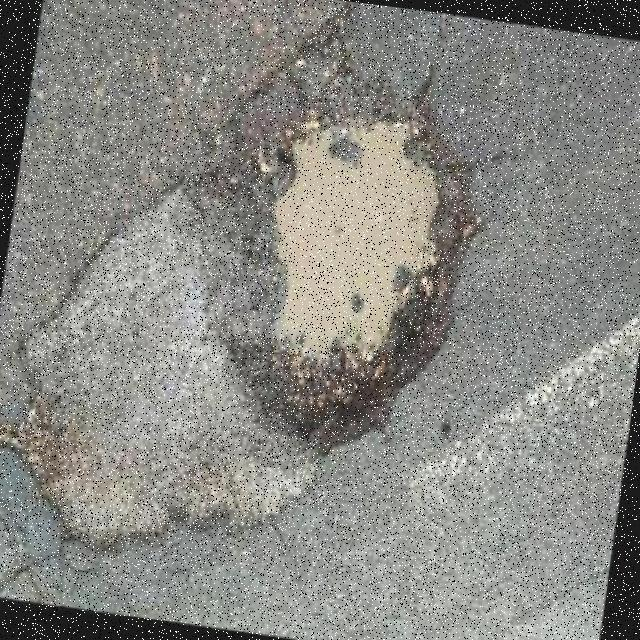Pothole: (183, 38, 481, 445)
